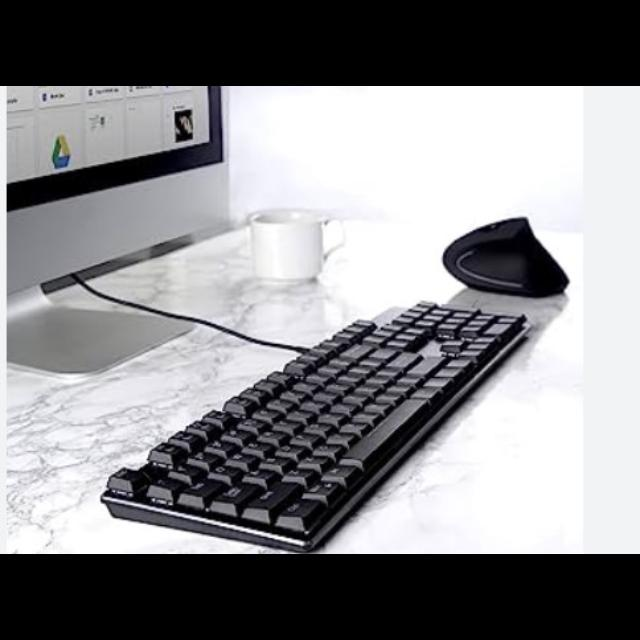Computer-Keyboard: (100, 302, 540, 554)
